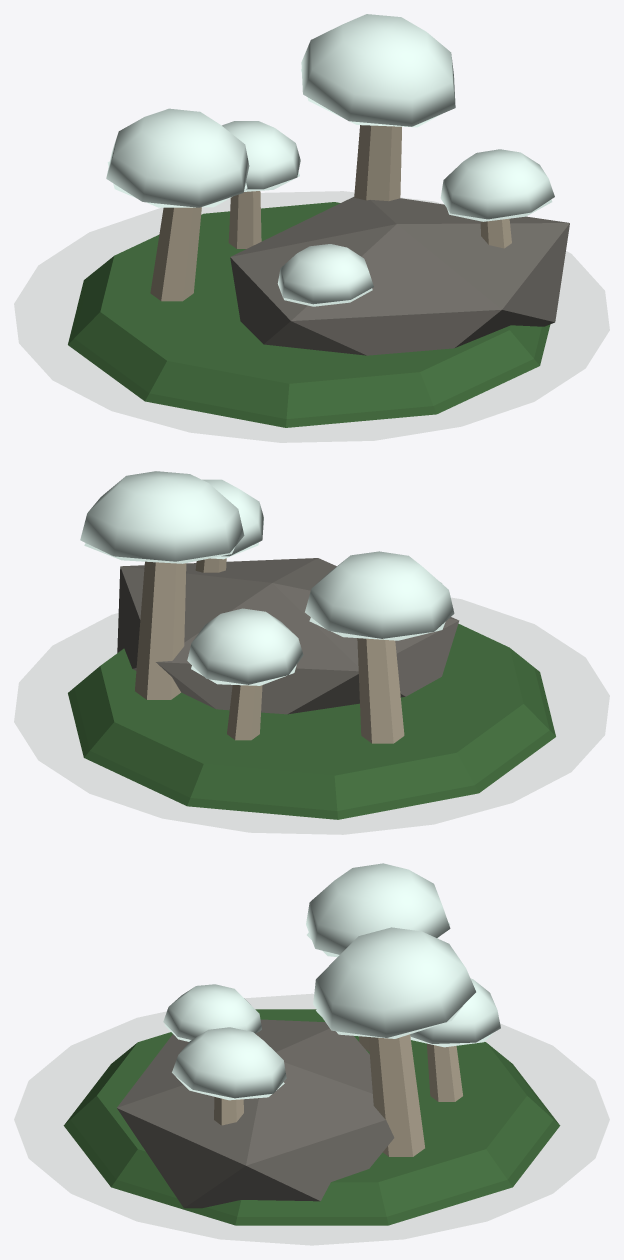
File: glow_mushroom.glb
3 renders of one model, top to bottom at view 1: azimuth 30°, elevation 25°; view 2: azimuth 150°, elevation 25°; view 3: azimuth 270°, elevation 25°, orthographic.
Parts seen in each view (by area): view 1: glow_mushroom; view 2: glow_mushroom; view 3: glow_mushroom.
Boxes of the visible parts, x1,y1,x2,y2 form: glow_mushroom: (67, 14, 569, 427); glow_mushroom: (67, 471, 556, 819); glow_mushroom: (63, 863, 560, 1225).
Size of the model in its own units: 0.72 by 0.353 by 0.72.
